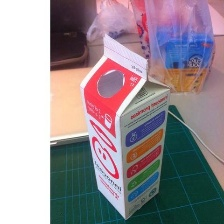carton: (72, 31, 174, 224)
plastic_bag: (136, 0, 217, 99), (76, 0, 136, 44)
